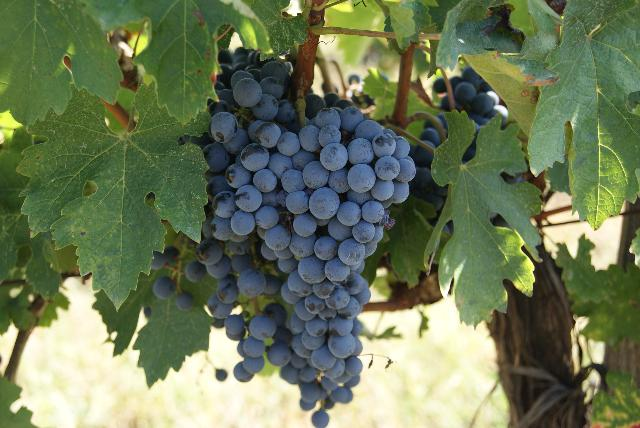grapes: (210, 110, 415, 386)
